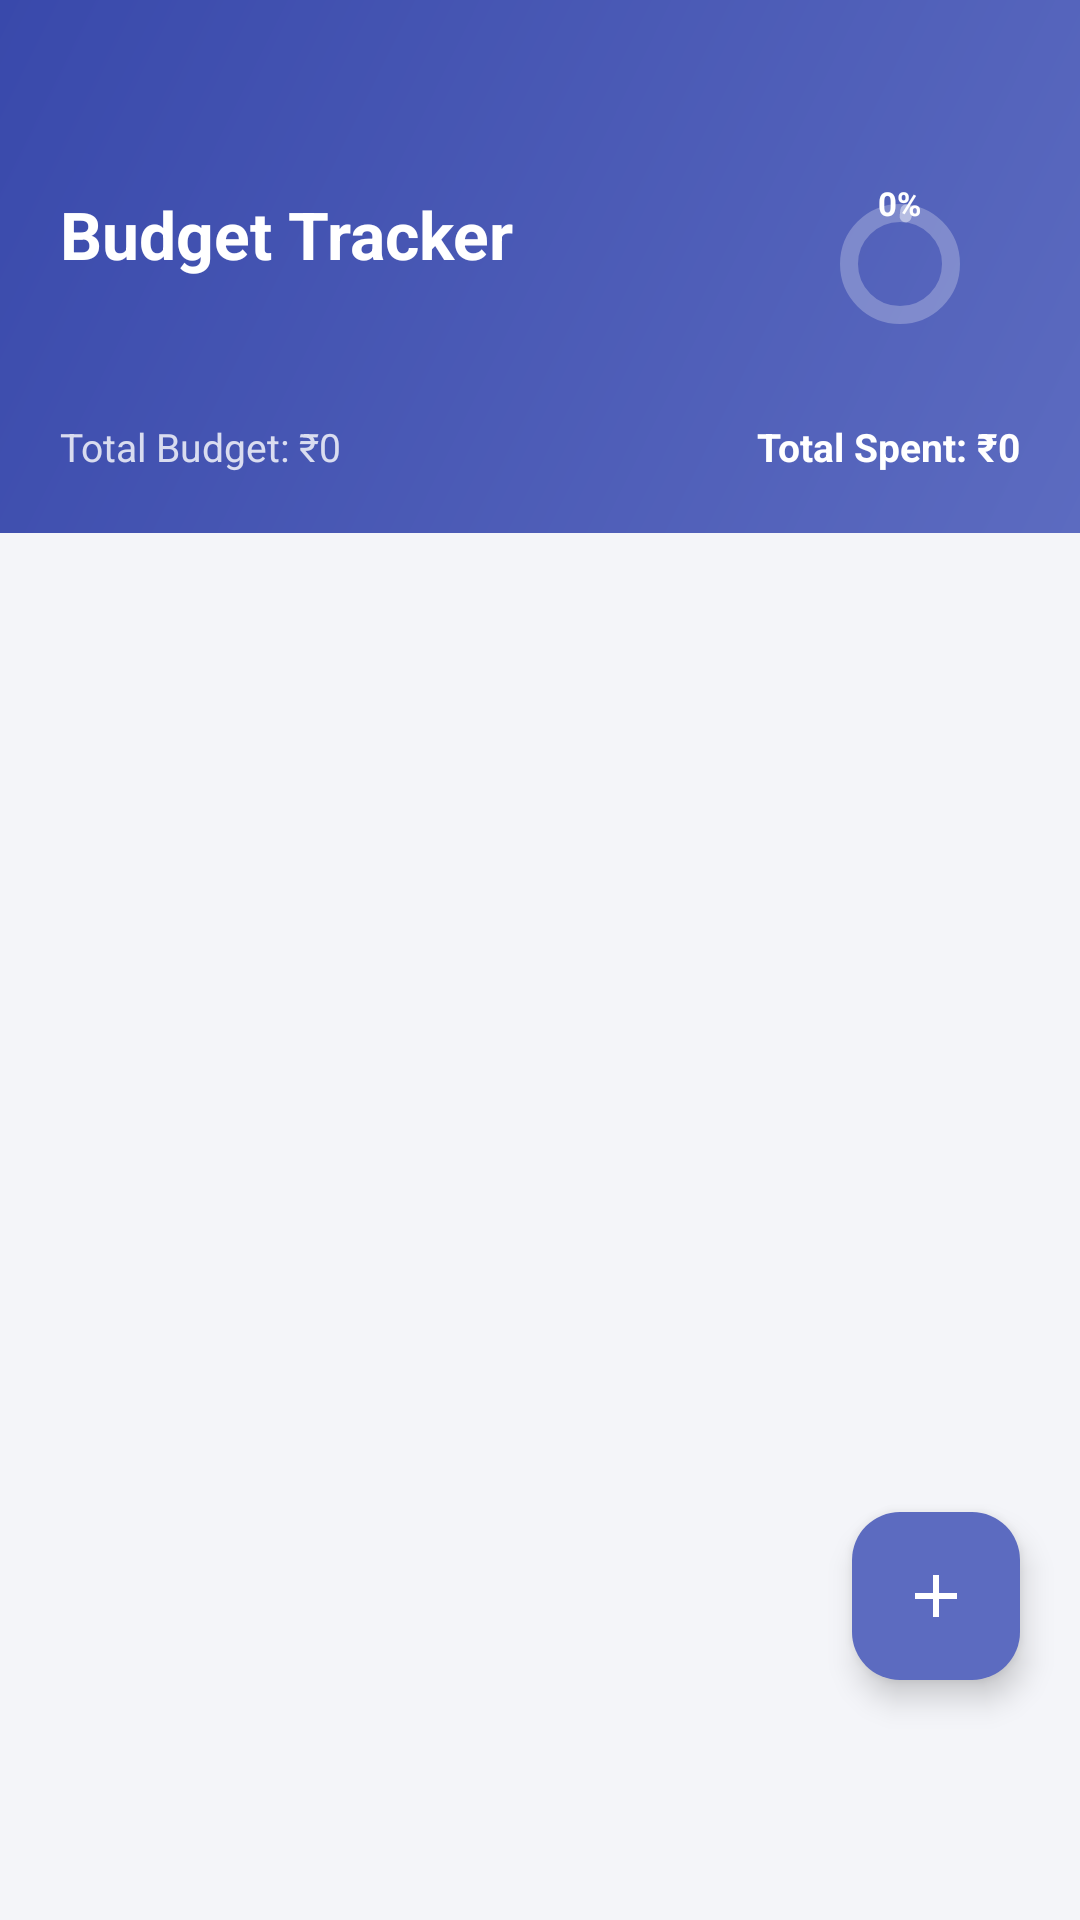

Icons on this 1080×1920 Android screen, each with the point to tap as [x,y]:
add: [936,1596]
